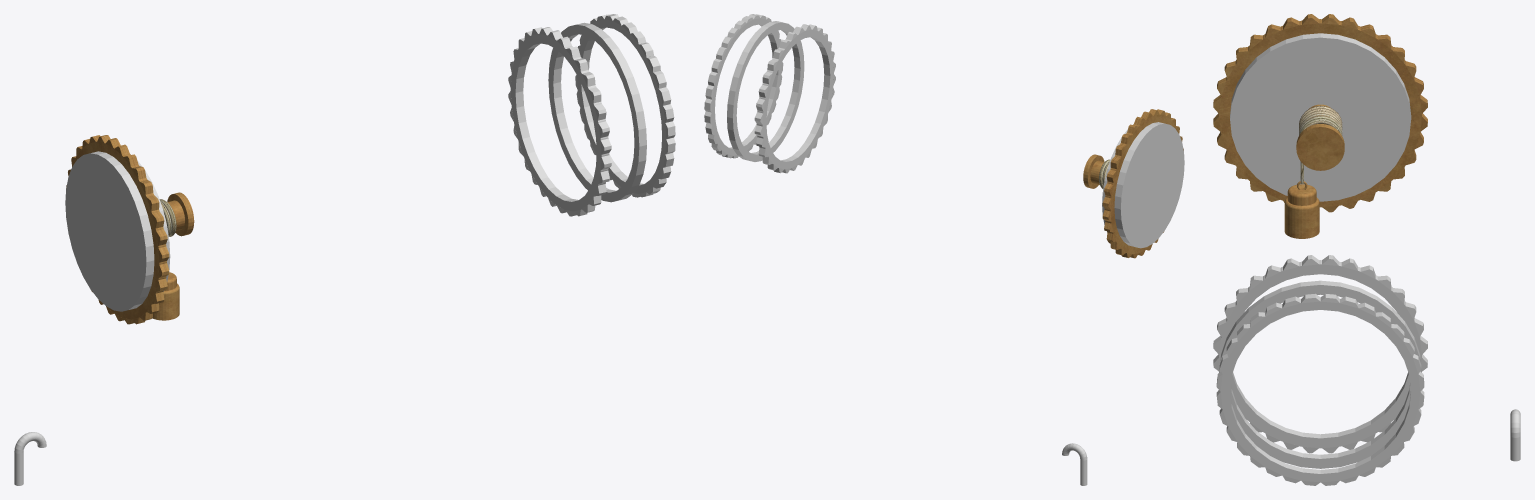
File: gear_wheels.fbx
3 renders of one model, left to right at view 1: azimuth 30°, elevation 25°; view 2: azimuth 150°, elevation 25°; view 3: azimuth 270°, elevation 25°, orthographic. The views are drawn at different scales.
Parts seen in each view (by area): view 1: Cylinder.001, Cylinder.004, Cylinder.003, Cylinder, roue.principale, poids, Cylinder.002; view 2: Cylinder.001, Cylinder.004, Cylinder.003, Cylinder, roue.principale; view 3: Cylinder.001, Cylinder, Cylinder.004, roue.principale, Cylinder.003, derriere3, poids, Corde, Cylinder.002.
Boxes of the visible parts, x1=… form: Cylinder.001: x1=65, y1=151, x2=170, y2=311; Cylinder.004: x1=508, y1=27, x2=611, y2=216; Cylinder.003: x1=548, y1=22, x2=646, y2=202; Cylinder: x1=575, y1=14, x2=675, y2=197; roue.principale: x1=66, y1=135, x2=169, y2=324; poids: x1=152, y1=272, x2=179, y2=320; Cylinder.002: x1=14, y1=432, x2=46, y2=485; Cylinder.001: x1=1102, y1=122, x2=1184, y2=248; Cylinder.004: x1=754, y1=24, x2=835, y2=173; Cylinder.003: x1=727, y1=21, x2=804, y2=161; Cylinder: x1=704, y1=14, x2=783, y2=158; roue.principale: x1=1102, y1=109, x2=1183, y2=258; Cylinder.001: x1=1230, y1=33, x2=1411, y2=201; Cylinder: x1=1216, y1=293, x2=1424, y2=485; Cylinder.004: x1=1213, y1=255, x2=1427, y2=453; roue.principale: x1=1213, y1=14, x2=1427, y2=212; Cylinder.003: x1=1219, y1=280, x2=1421, y2=468; derriere3: x1=1296, y1=124, x2=1344, y2=170; poids: x1=1284, y1=184, x2=1319, y2=238; Corde: x1=1299, y1=105, x2=1342, y2=135; Cylinder.002: x1=1510, y1=409, x2=1520, y2=461.
Bounding box in the file's own units: 682 × 498 × 308.
